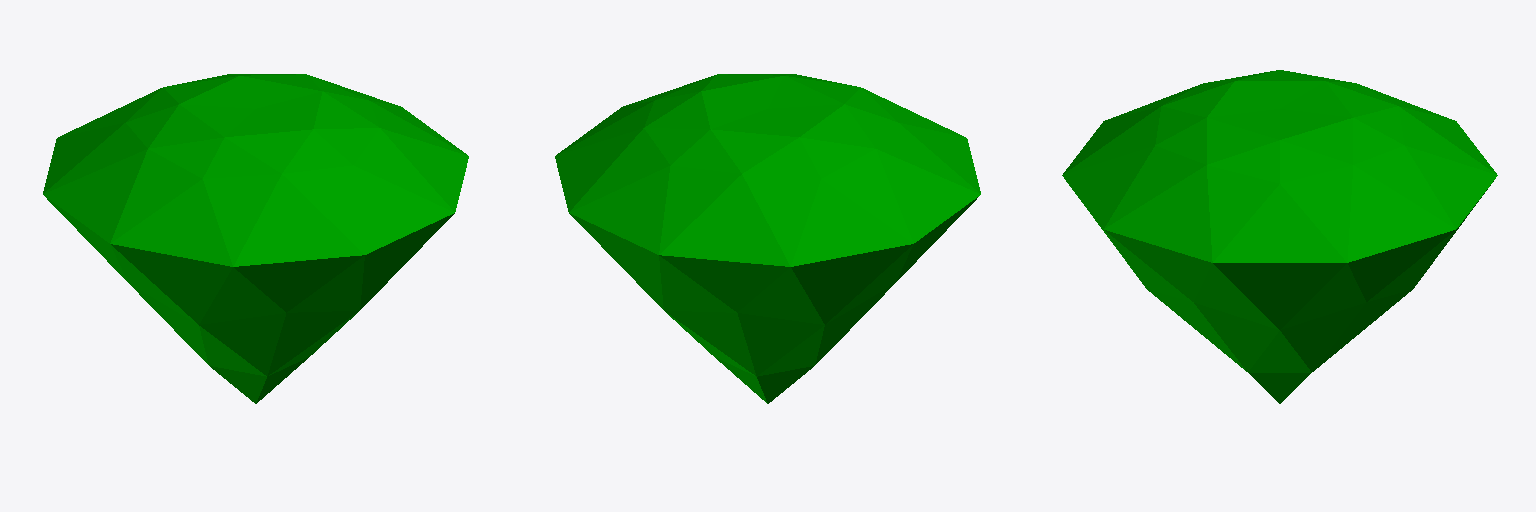
Rendered from emeraldGem.obj.
3 renders of one model, left to right at view 1: azimuth 30°, elevation 25°; view 2: azimuth 150°, elevation 25°; view 3: azimuth 270°, elevation 25°, orthographic.
Visible parts, largest first — view 1: Icosphere; view 2: Icosphere; view 3: Icosphere.
Boxes of the visible parts, x1,y1,x2,y2 form: Icosphere: [43, 74, 468, 403]; Icosphere: [555, 74, 980, 403]; Icosphere: [1062, 70, 1497, 403].
Size of the model in its own units: 2.83 by 2.23 by 2.97.